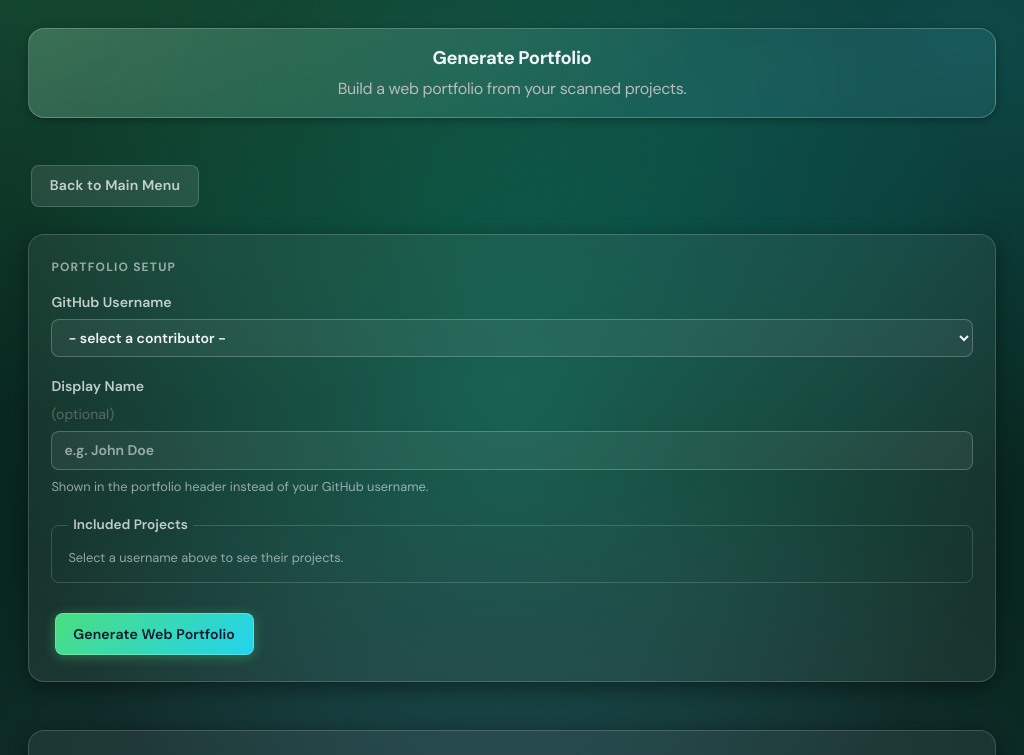
Test: PortfolioPage › renders all four dashboard section headings
Check: the button "Generate Web Portfolio" is shown, box [55,613,254,655]
Step 1. Select "alice" in the dropdown → (512, 338), box [51,319,973,357]
(page scrolled)
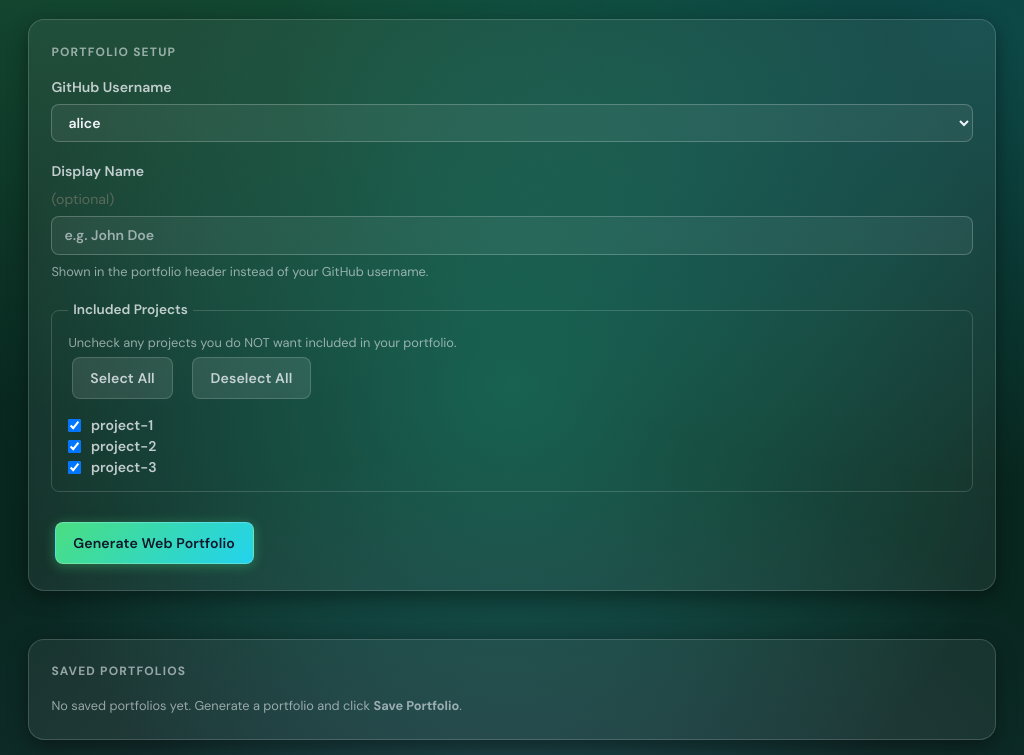
Step 2. Click the button "Generate Web Portfolio" → click(154, 543), box [55,522,254,564]
(page scrolled)
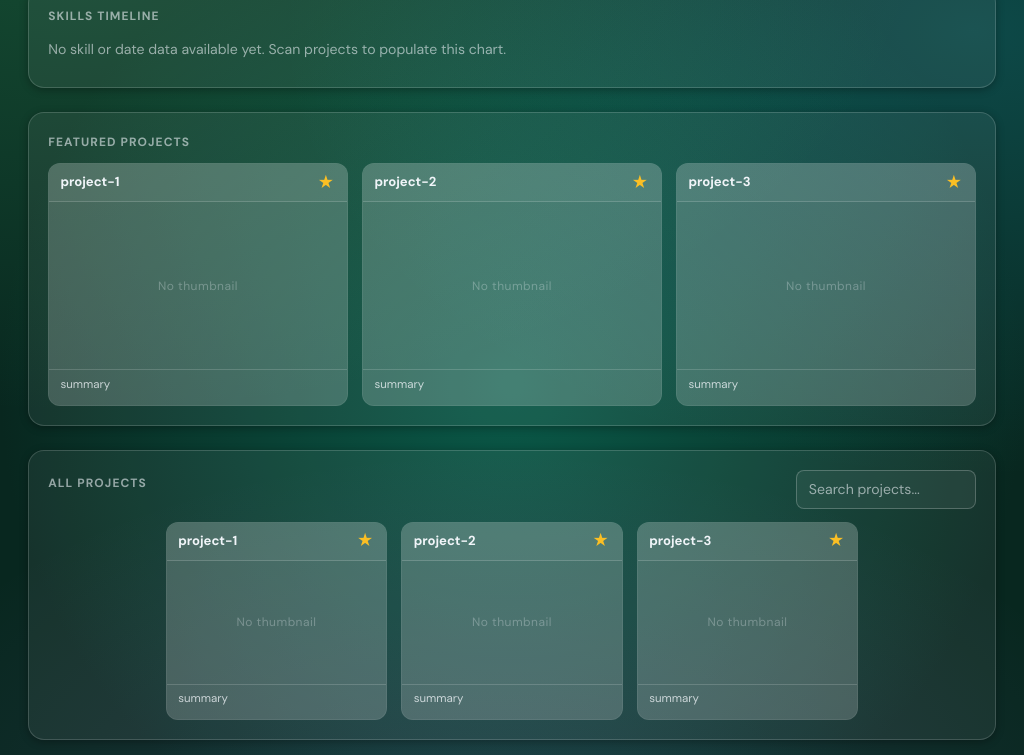
Check: the heading "Skills Timeline" is shown, box [48,8,160,24]
Check: the heading "Featured Projects" is shown, box [48,134,190,150]
Check: the heading "All Projects" is shown, box [48,474,147,492]
